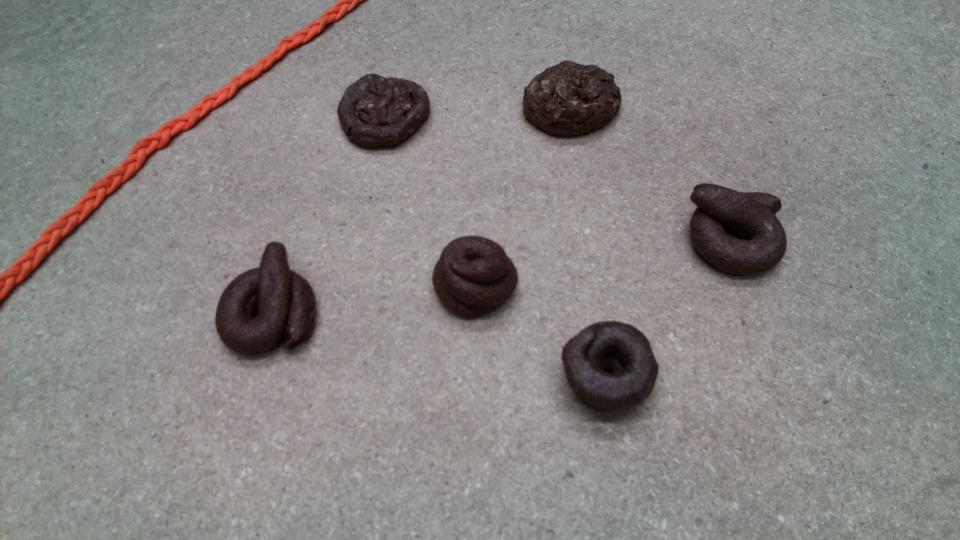poop: (212, 239, 321, 361), (556, 317, 664, 423), (685, 180, 790, 280), (520, 57, 626, 141), (430, 232, 521, 323), (335, 70, 434, 153)
rope: (2, 1, 351, 295)
